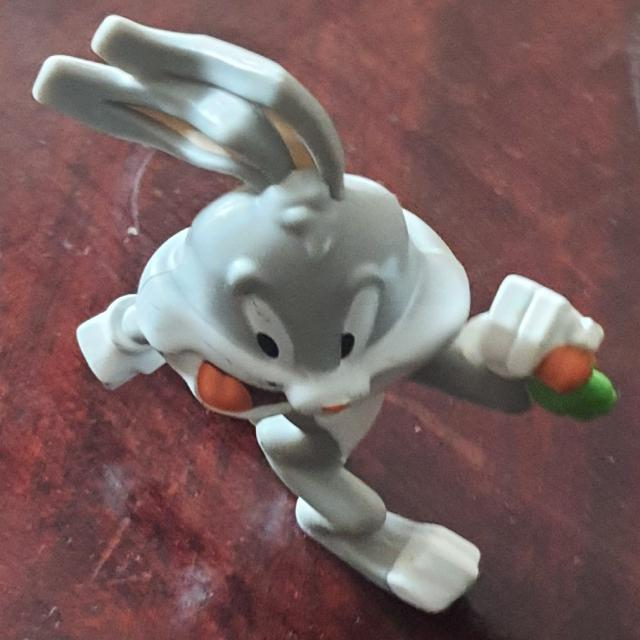Rabbit: (30, 13, 618, 615)
